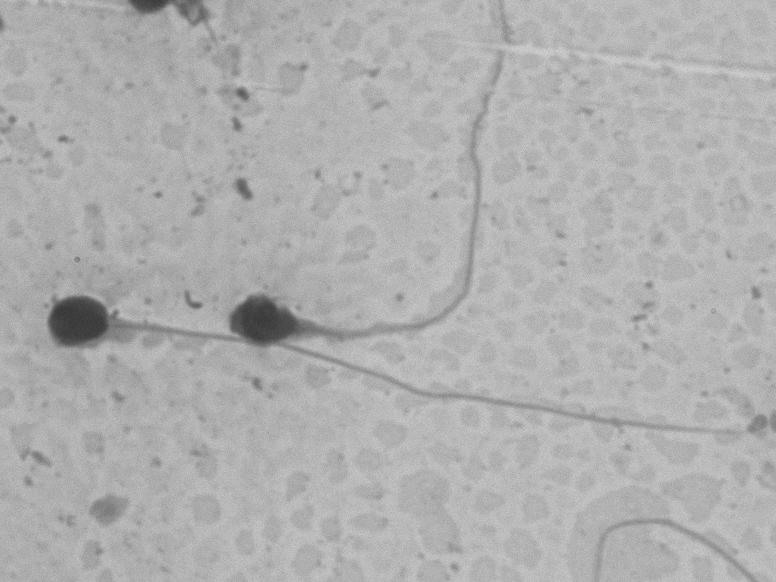Abnormal: (30, 282, 746, 448), (212, 18, 534, 354)
